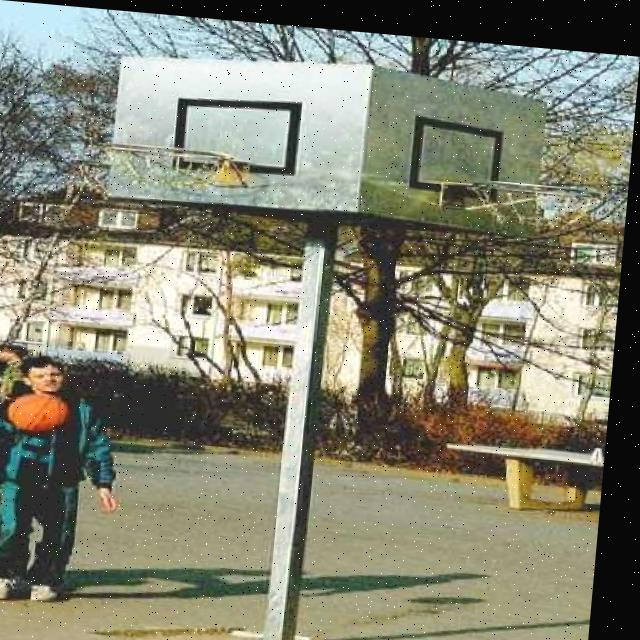basketball: (6, 390, 71, 436)
hoop: (469, 173, 604, 240), (94, 136, 233, 199)
